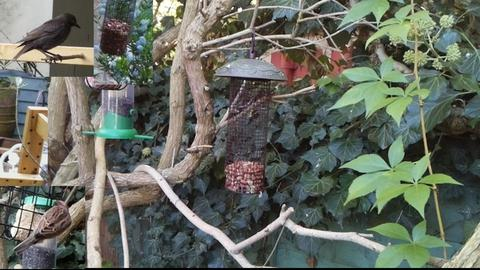sparrow: (12, 198, 73, 256)
starling: (12, 12, 81, 64)
